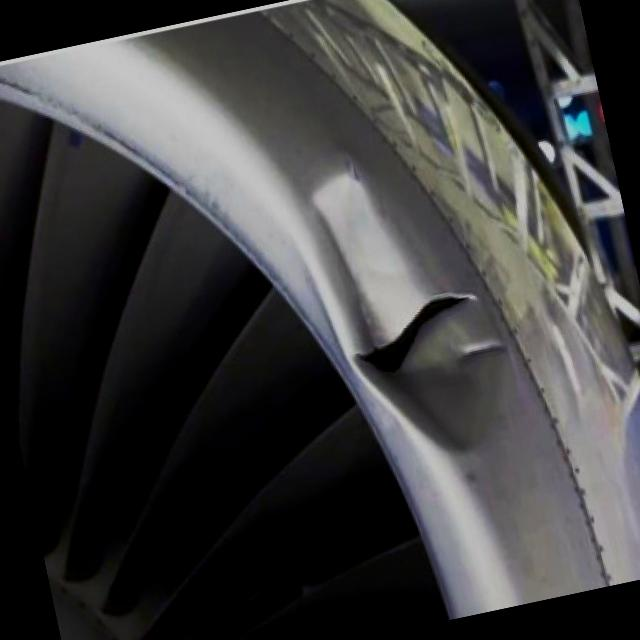crack: (327, 284, 495, 404)
